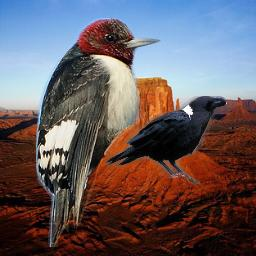Crow: (105, 96, 228, 185)
Woodpecker: (36, 18, 162, 247)
